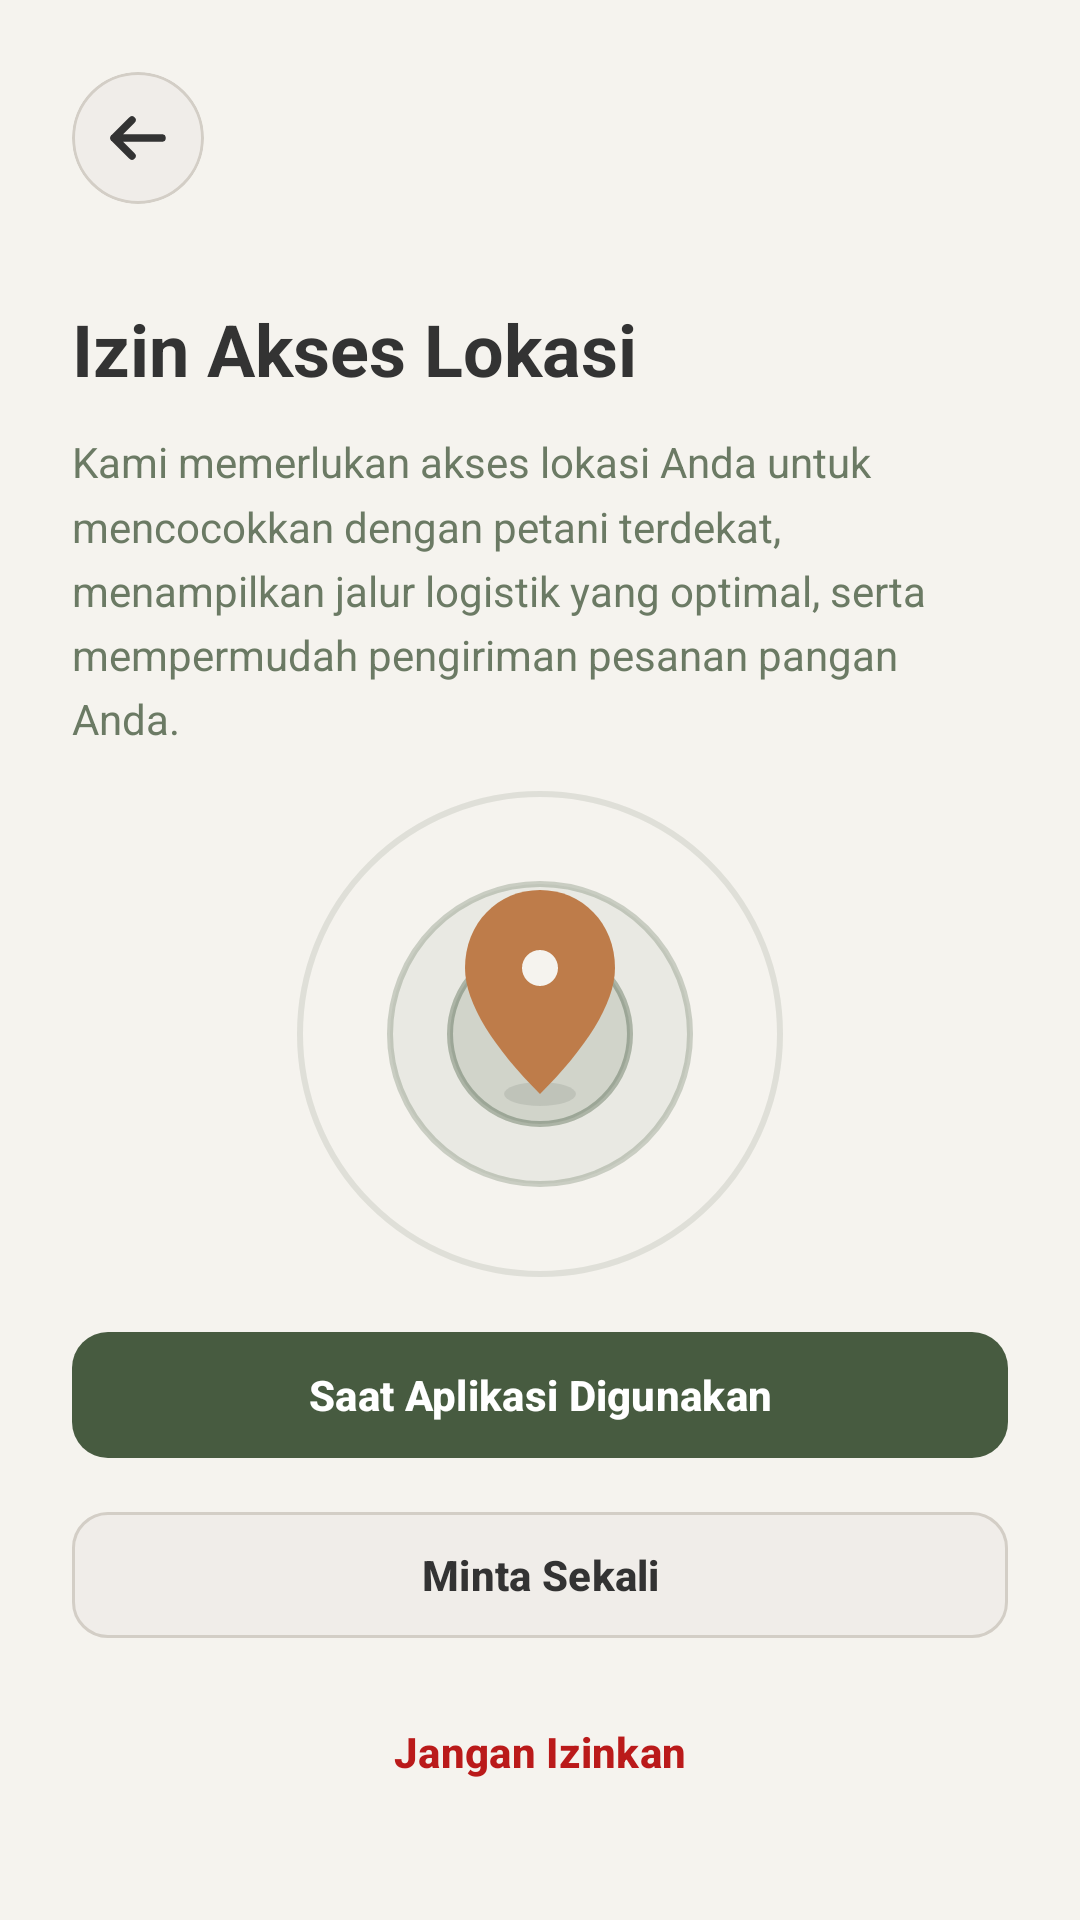

Icons on this 1080x1920 Android screen, each with the point to tap as (x=x, y=y):
back arrow: (x=138, y=138)
location radar: (x=540, y=1034)
